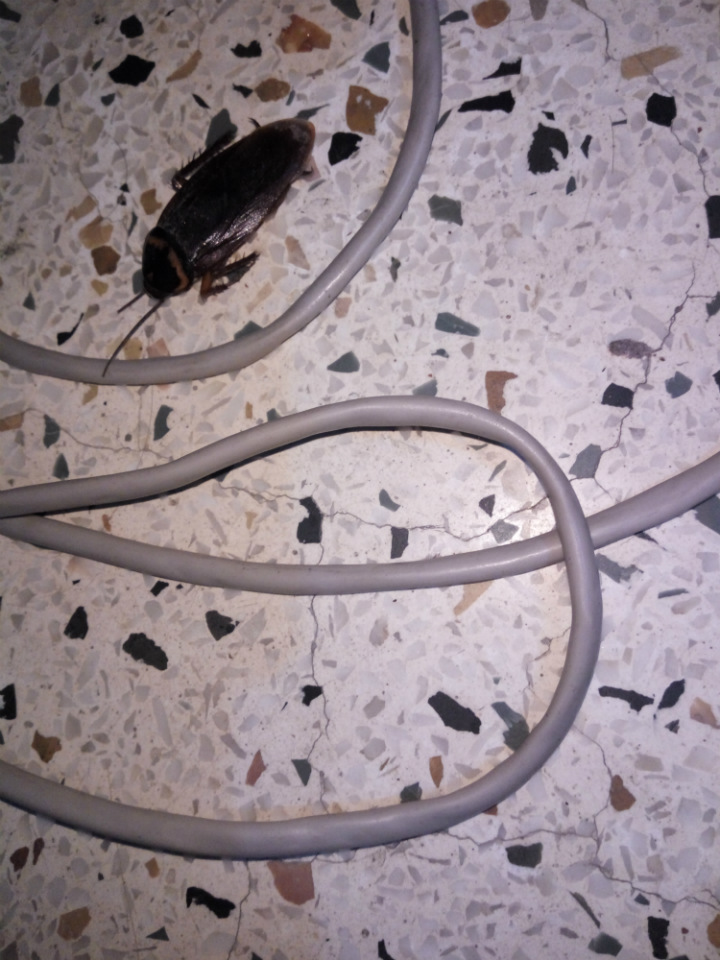cockroach: (51, 62, 341, 387)
